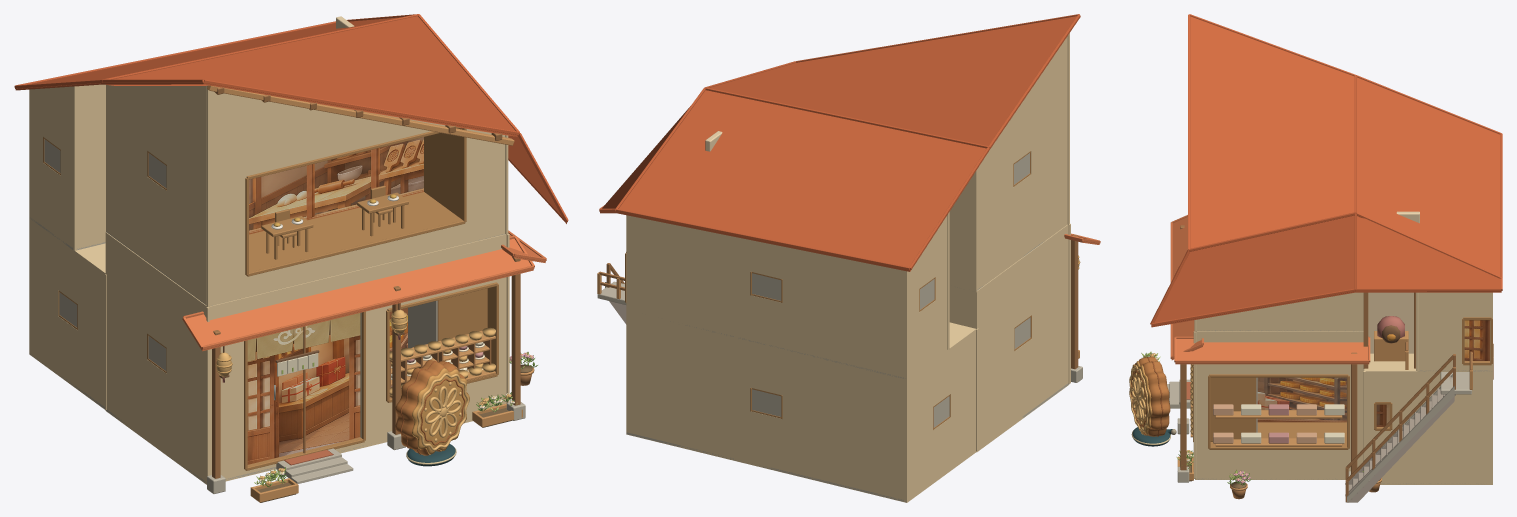
The picture shows the model from 3 angles, left to right: view 1: azimuth 30°, elevation 25°; view 2: azimuth 150°, elevation 25°; view 3: azimuth 270°, elevation 25°; orthographic projection. The views are drawn at different scales.
Visible parts, largest first — view 1: SM_11_01_建筑墙体, SM_11_04_门窗楼梯, SM_11_02_曲面屋顶, SM_11_03_木构回廊, SM_11_06_景观设施, SM_11_06_门前充气招牌, SM_11_05_景观植物; view 2: SM_11_01_建筑墙体, SM_11_02_曲面屋顶, SM_11_04_门窗楼梯, SM_11_03_木构回廊; view 3: SM_11_02_曲面屋顶, SM_11_01_建筑墙体, SM_11_04_门窗楼梯, SM_11_06_景观设施, SM_11_03_木构回廊, SM_11_06_门前充气招牌, SM_11_06_院内及专用铺地, SM_11_05_景观植物.
Boxes of the visible parts, x1,y1,x2,y2 form: SM_11_01_建筑墙体: (29,16,506,484); SM_11_04_门窗楼梯: (43,127,498,483); SM_11_02_曲面屋顶: (14,14,568,351); SM_11_03_木构回廊: (73,85,525,493); SM_11_06_景观设施: (216,185,495,397); SM_11_06_门前充气招牌: (395,360,469,466); SM_11_05_景观植物: (250,352,537,502); SM_11_01_建筑墙体: (626,36,1069,502); SM_11_02_曲面屋顶: (599,14,1100,271); SM_11_04_门窗楼梯: (597,151,1080,429); SM_11_03_木构回廊: (605,33,1082,450); SM_11_02_曲面屋顶: (1150,14,1502,364); SM_11_01_建筑墙体: (1195,211,1492,484); SM_11_04_门窗楼梯: (1167,317,1493,502); SM_11_06_景观设施: (1190,316,1408,446); SM_11_03_木构回廊: (1177,225,1454,502); SM_11_06_门前充气招牌: (1129,356,1176,446); SM_11_06_院内及专用铺地: (1186,382,1454,502); SM_11_05_景观植物: (1141,351,1381,499).
Bounding box in the file's own units: 11.09 × 11.44 × 11.36.
40 materials, 1 textured.
